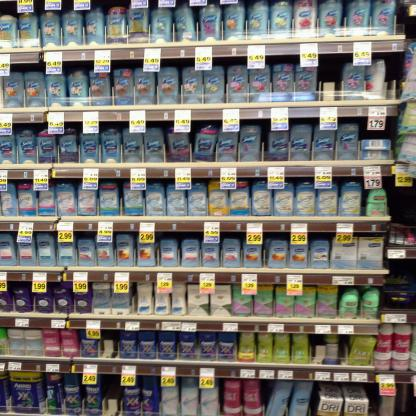Void: (316, 54, 343, 100), (390, 188, 414, 233), (388, 52, 408, 89), (100, 377, 119, 413), (99, 331, 118, 360), (389, 262, 414, 282)
